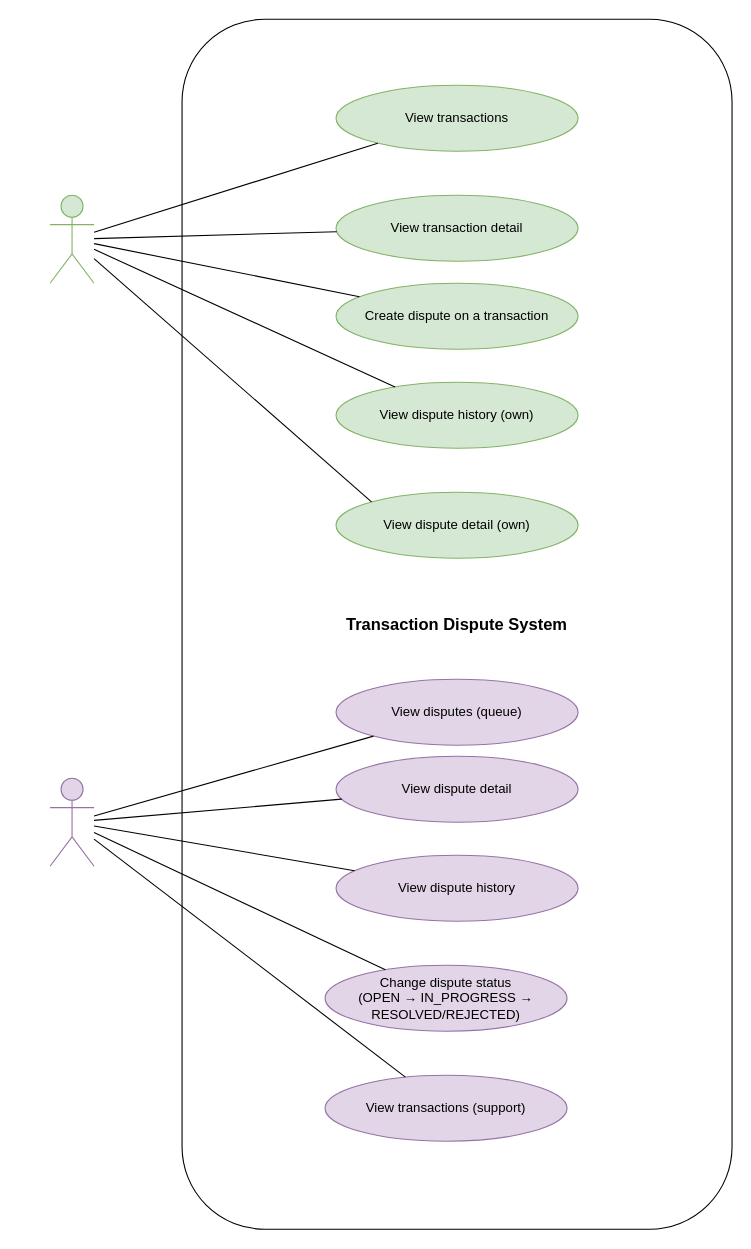
This 751x1249 diagram has some shape labels left out. Here are the shapes that lost their labels. From the top down, the centre of each, then its label:
At (x=71, y=238): "ROLE_USER".
At (x=71, y=821): "ROLE_SUPPORT".
